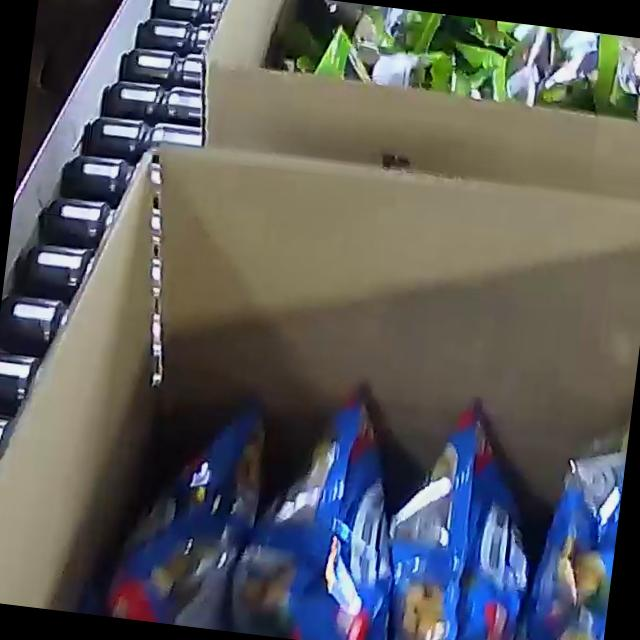paprika: (57, 310, 635, 640)
yogurt: (292, 0, 640, 118)
